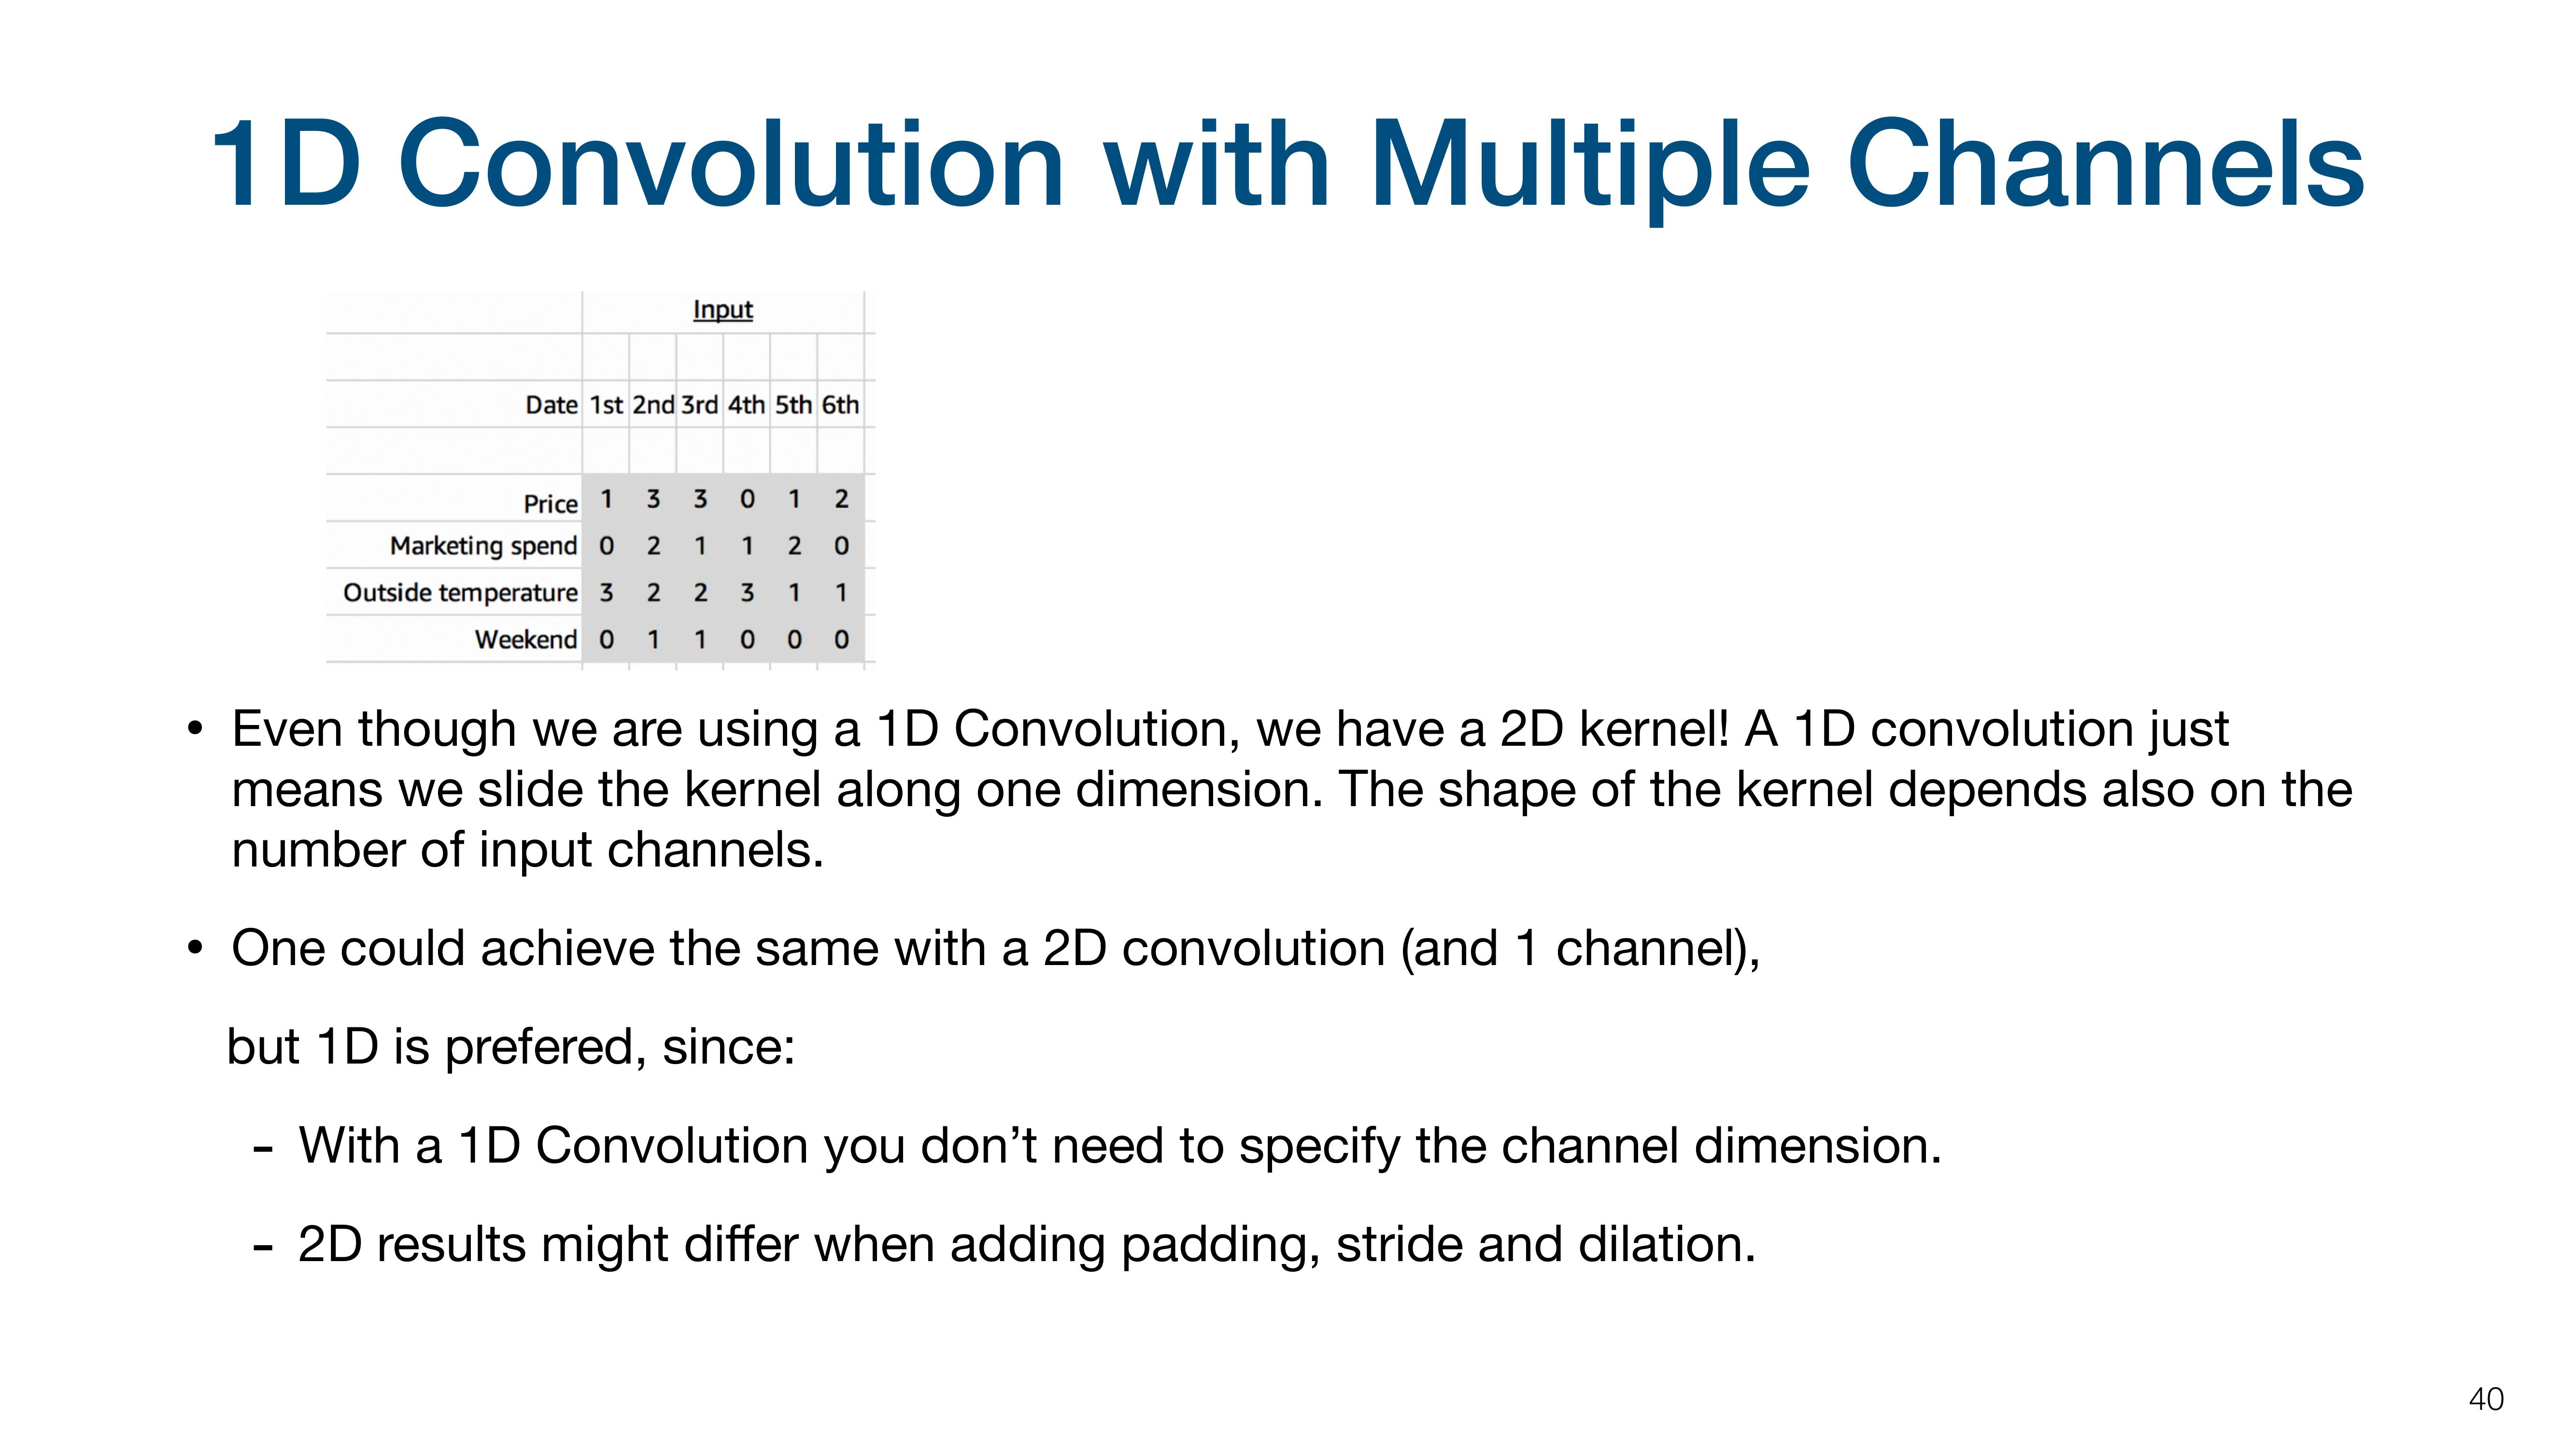Title: (165, 96, 2378, 253)
